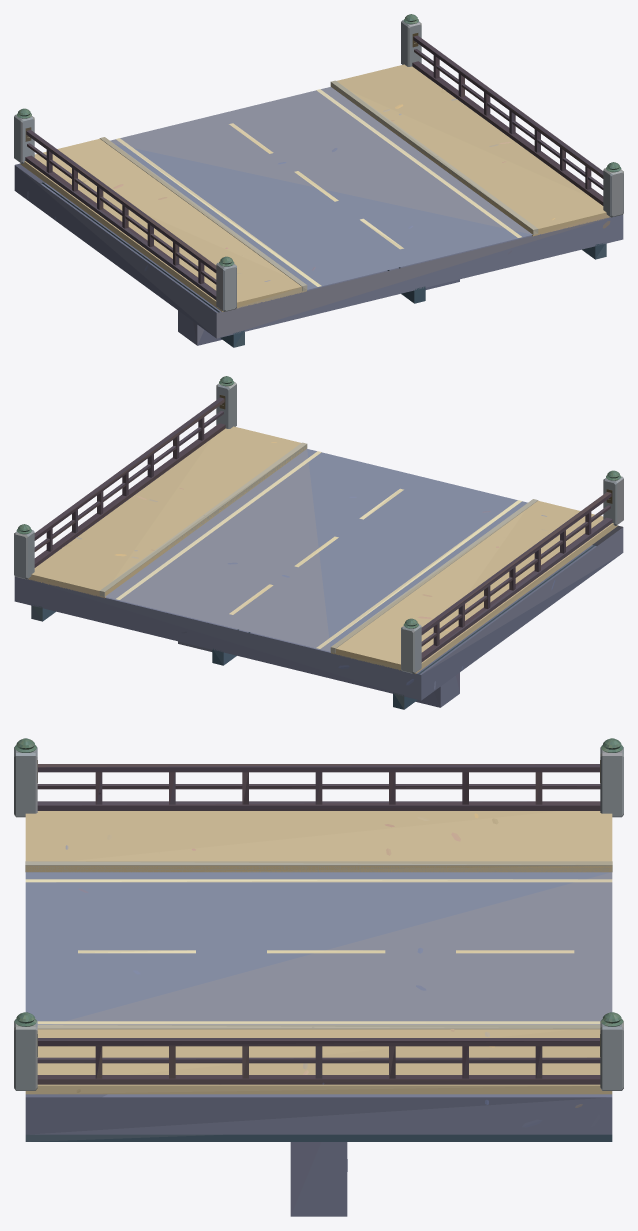
File: HK_Kyobashi.lod.glb
3 views of the same model, one above another, from view 1: azimuth 30°, elevation 25°; view 2: azimuth 150°, elevation 25°; view 3: azimuth 270°, elevation 25° (orthographic). The views are drawn at different scales.
Parts seen in each view (by area): view 1: HK_Kyobashi; view 2: HK_Kyobashi; view 3: HK_Kyobashi.
Boxes of the visible parts, left/top/right/bottom form: HK_Kyobashi: left=14, top=14, right=623, bottom=347; HK_Kyobashi: left=14, top=376, right=623, bottom=709; HK_Kyobashi: left=14, top=738, right=623, bottom=1216.
Size of the model in its own units: 14.41 by 5.77 by 12.9.
